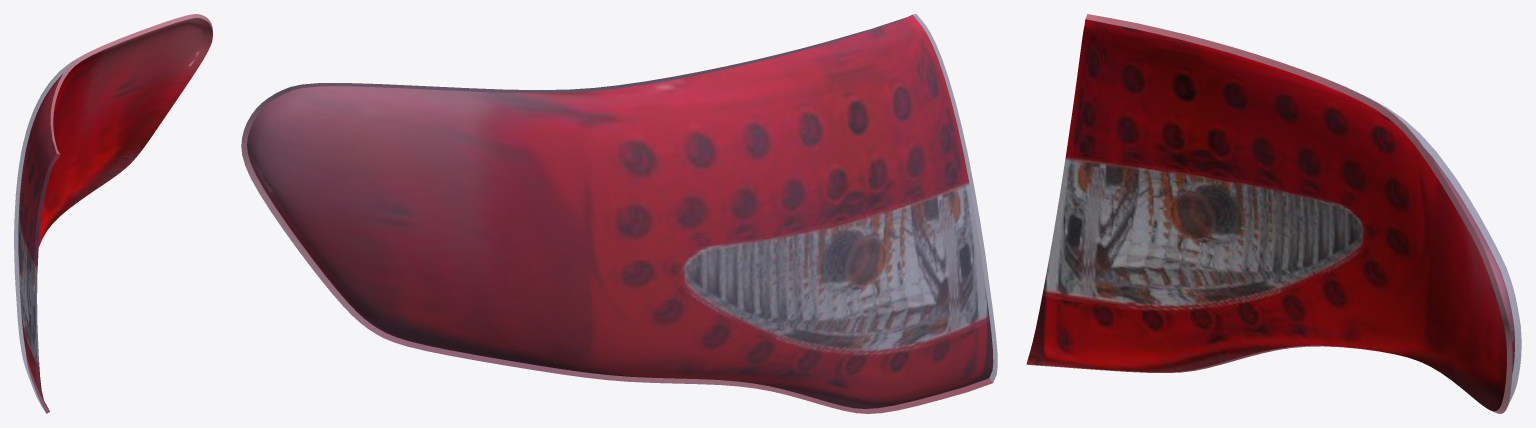
3 renders of one model, left to right at view 1: azimuth 30°, elevation 25°; view 2: azimuth 150°, elevation 25°; view 3: azimuth 270°, elevation 25°, orthographic. The views are drawn at different scales.
Visible parts, largest first — view 1: Y212_541C_L_Y212_541C_L_2_N, Y212_541C_L_1_DTaSI_Y212_541C_L; view 2: Y212_541C_L_1_DTaSI_Y212_541C_L, Y212_541C_L_Y212_541C_L_2_N; view 3: Y212_541C_L_Y212_541C_L_2_N, Y212_541C_L_1_DTaSI_Y212_541C_L.
Boxes of the visible parts, left/top/right/bottom form: Y212_541C_L_Y212_541C_L_2_N: left=18, top=14, right=212, bottom=413; Y212_541C_L_1_DTaSI_Y212_541C_L: left=14, top=54, right=84, bottom=413; Y212_541C_L_1_DTaSI_Y212_541C_L: left=241, top=14, right=997, bottom=413; Y212_541C_L_Y212_541C_L_2_N: left=241, top=14, right=993, bottom=413; Y212_541C_L_Y212_541C_L_2_N: left=1026, top=14, right=1514, bottom=413; Y212_541C_L_1_DTaSI_Y212_541C_L: left=1368, top=97, right=1521, bottom=406.
Bounding box in the file's own units: 31.89 × 22.38 × 26.92.
